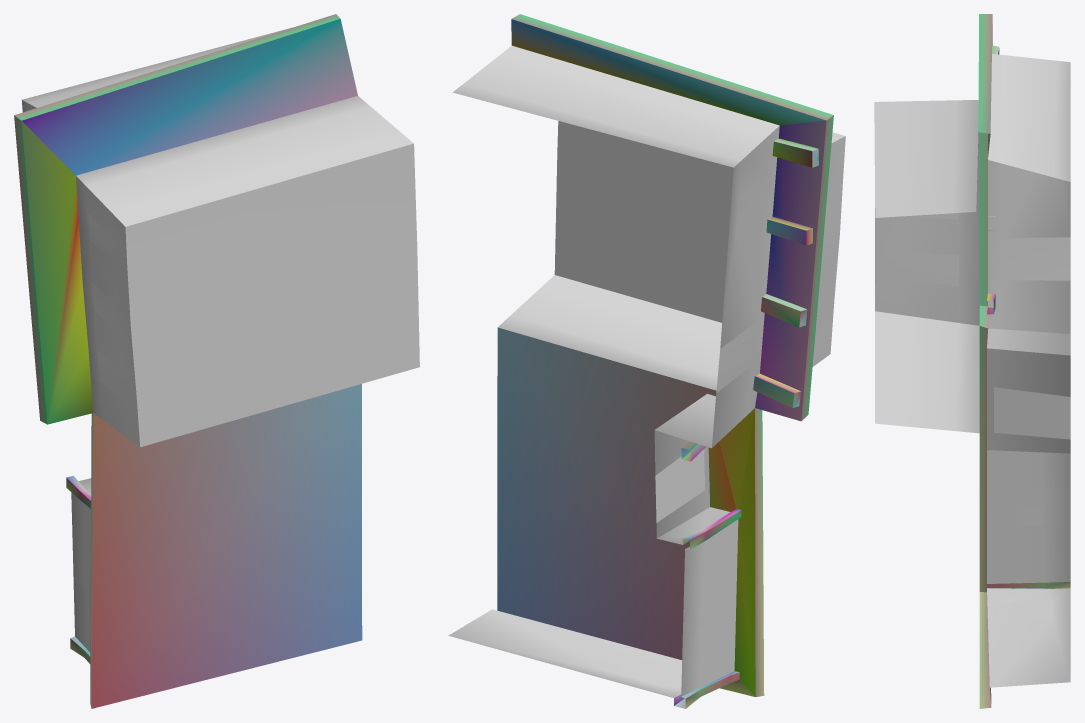
File: Village_ClusterA.glb
3 views of the same model, side by side, from view 1: azimuth 30°, elevation 25°; view 2: azimuth 150°, elevation 25°; view 3: azimuth 270°, elevation 25° (orthographic). The views are drawn at different scales.
Parts seen in each view (by area): view 1: MeshNode_0, MeshNode_2, MeshNode_1; view 2: MeshNode_2, MeshNode_0, MeshNode_1; view 3: MeshNode_2, MeshNode_1, MeshNode_0.
Boxes of the visible parts, left/top/right/bottom form: MeshNode_0: left=14, top=14, right=362, bottom=708; MeshNode_2: left=22, top=27, right=419, bottom=652; MeshNode_1: left=85, top=214, right=124, bottom=592; MeshNode_2: left=448, top=45, right=845, bottom=697; MeshNode_0: left=497, top=14, right=833, bottom=708; MeshNode_1: left=614, top=173, right=766, bottom=684; MeshNode_2: left=874, top=54, right=1070, bottom=687; MeshNode_1: left=904, top=213, right=1070, bottom=622; MeshNode_0: left=976, top=14, right=1070, bottom=708.
Size of the model in its own units: 21.7 by 38.32 by 11.98.
